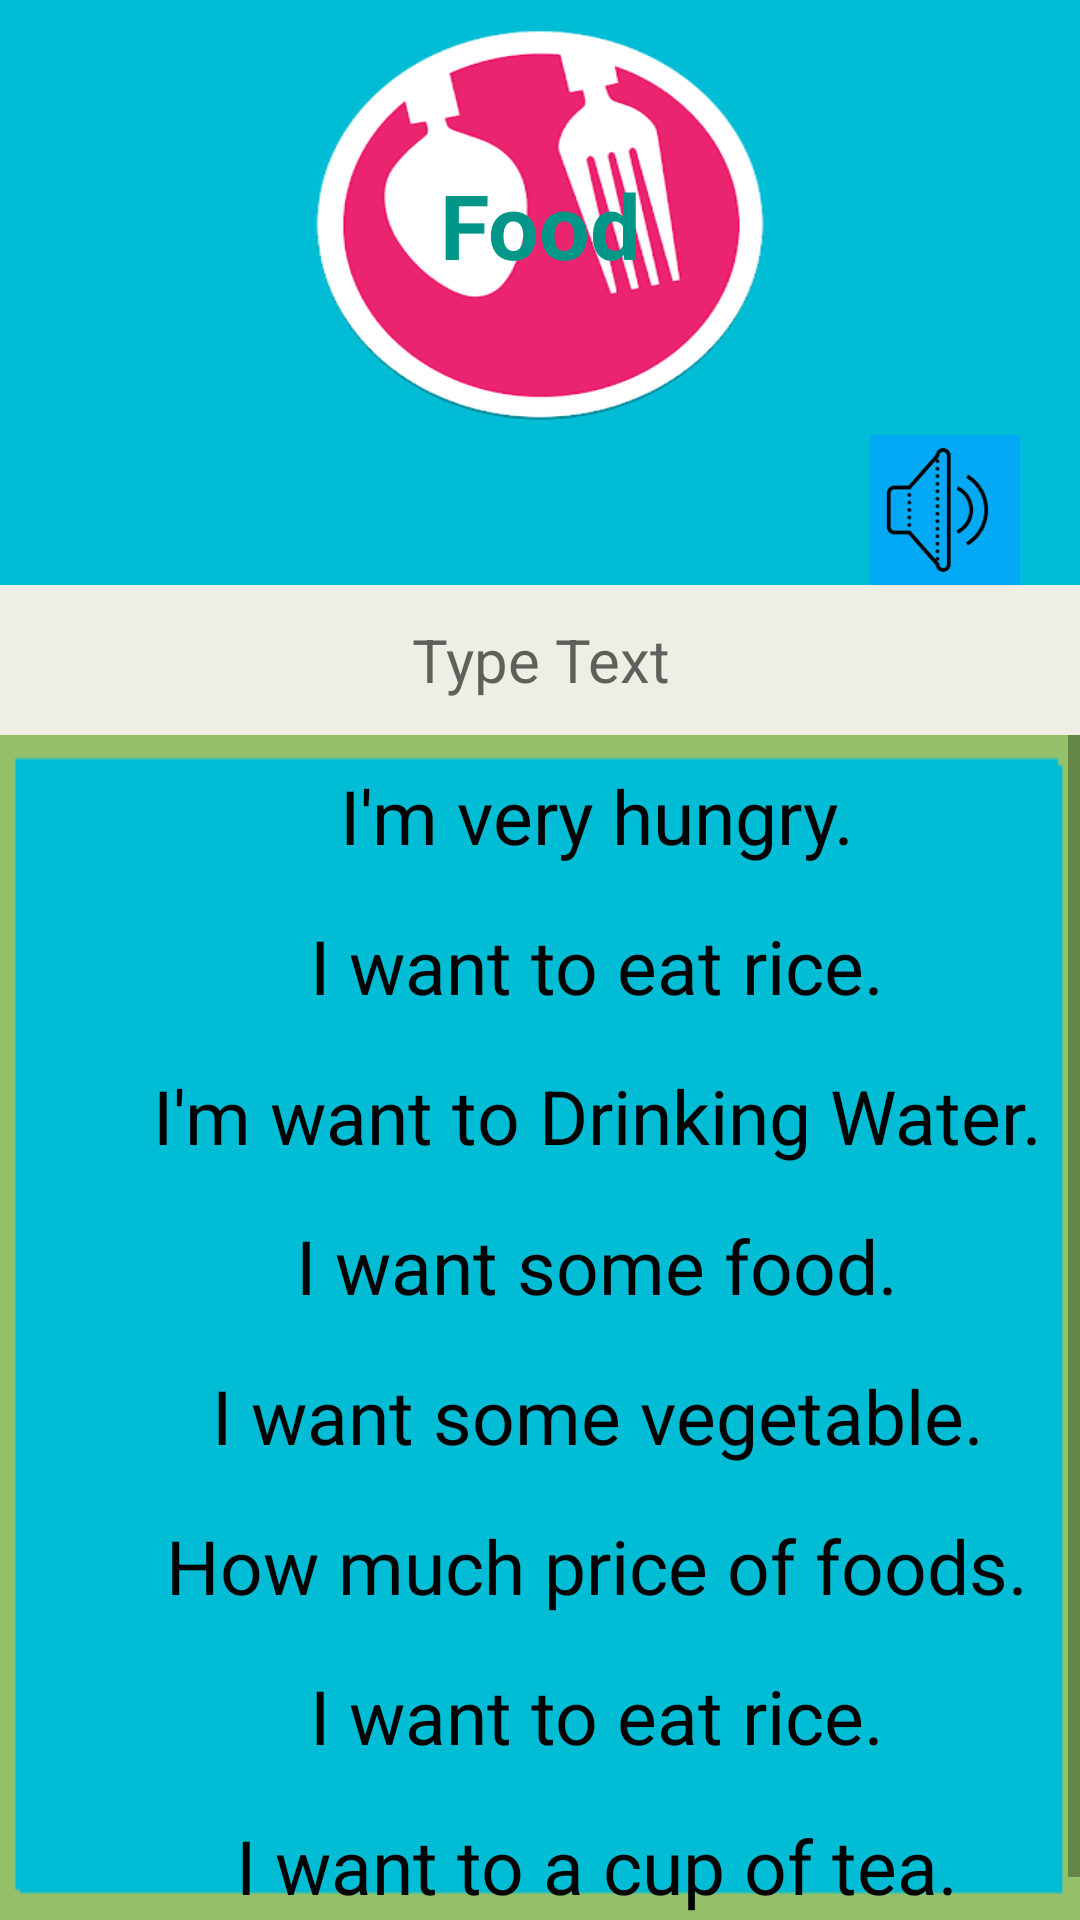

Point at icon controls on the screen. Image size 1080 × 1920, points as point (x, y).
speka: point (945, 510)
